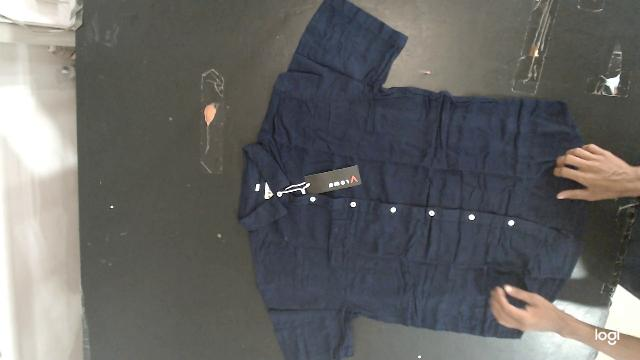new-garment: (239, 0, 585, 360)
